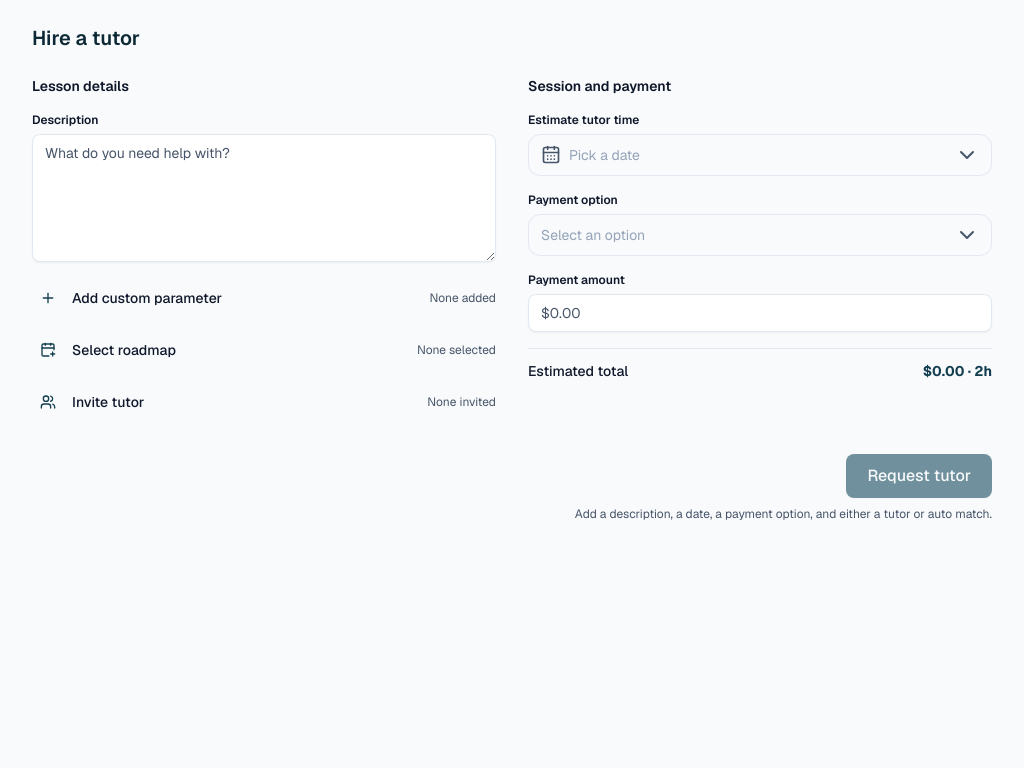
Scenario: HireTutorForm › opens the roadmap dialog from its row
This screenshot has width=1024, height=768.
Step 1. Click the button "Select roadmap" → coordinates (104, 350), box left=32, top=330, right=176, bottom=370
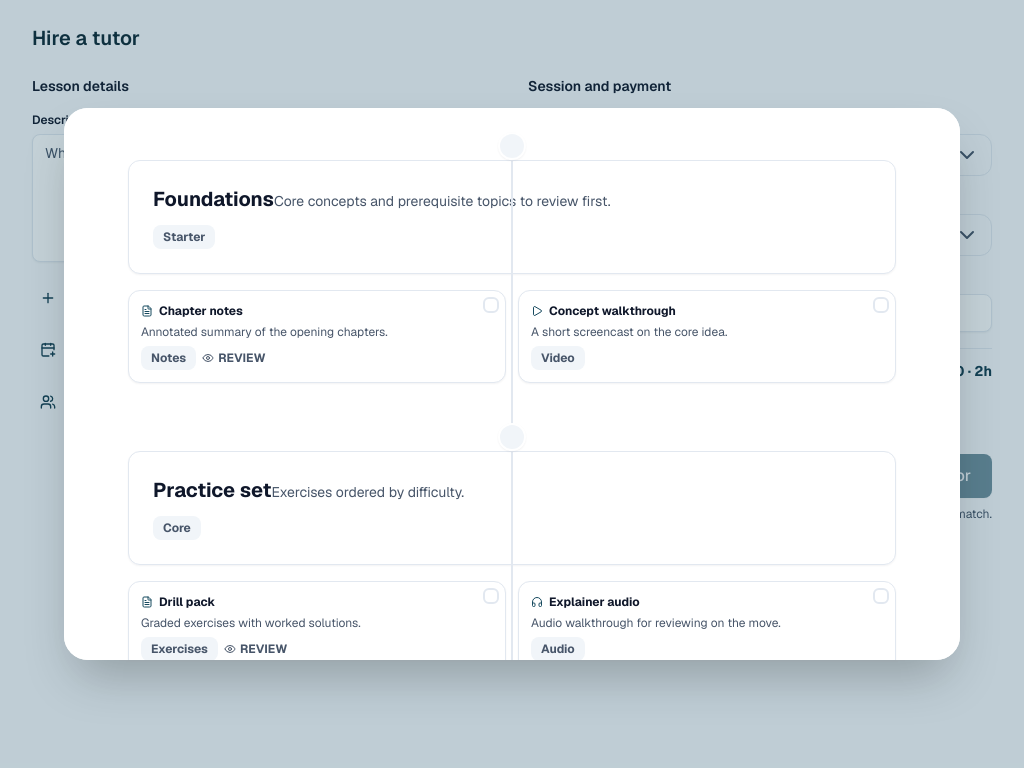
expect the dialog named "Select roadmap items" is shown: met
